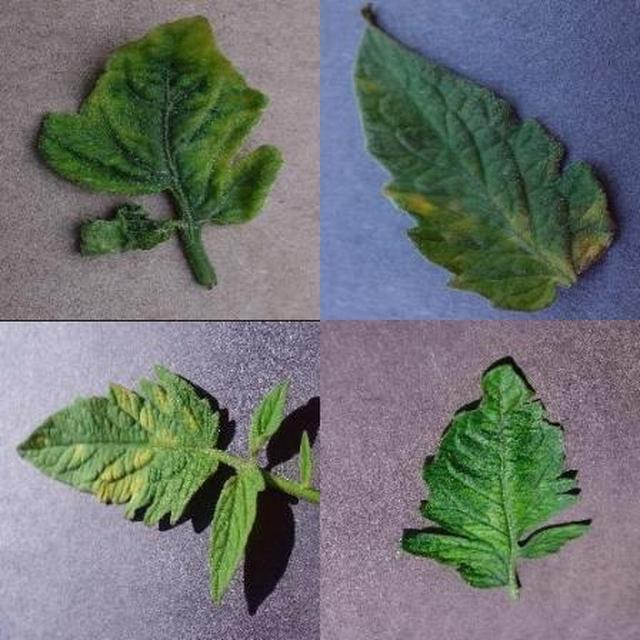Yellow Leaf Curl Virus: (79, 170, 640, 640)
